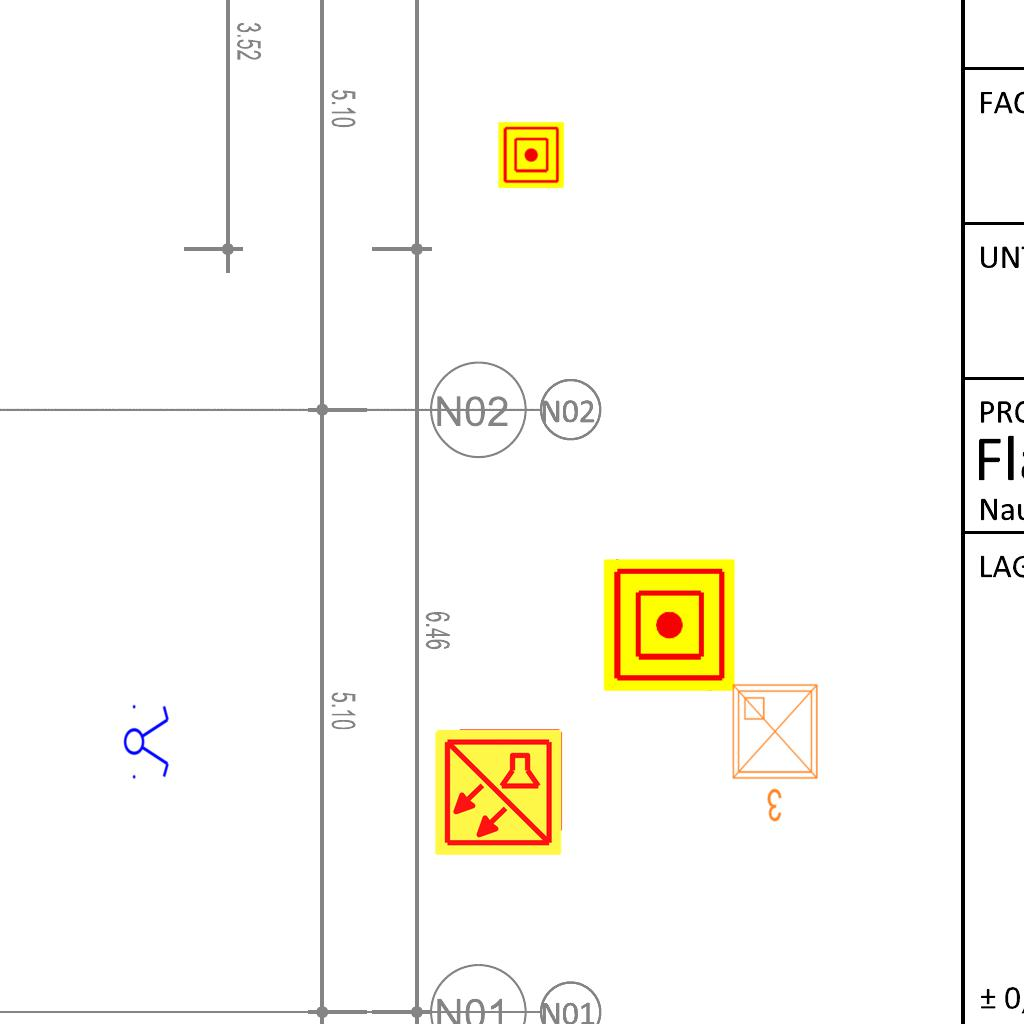Einbaudownlights_LED_Konferenzraeume: (725, 677, 829, 827)
NAM-Nichtautomatischer_Melder: (603, 559, 735, 691), (498, 122, 564, 188)
OKW_Multisensormelder_(Kombination_optischer_Rauch-Kahlenmonoxid_Waerme-Melder): (432, 726, 564, 858)
Serienschalter: (123, 699, 171, 783)
